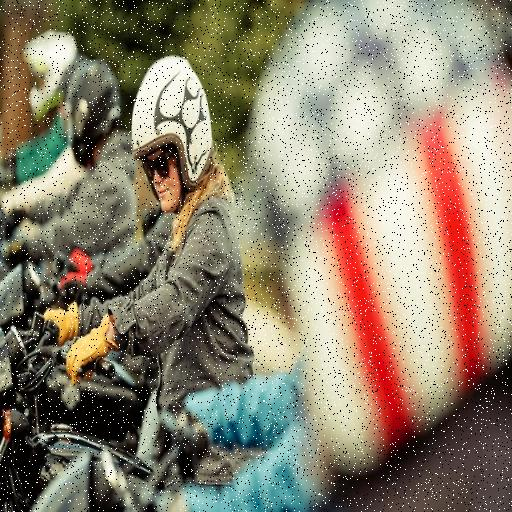Helmet: (251, 18, 512, 476), (126, 62, 219, 216), (20, 32, 86, 126), (66, 62, 124, 167)
Motor: (2, 329, 190, 506), (4, 249, 104, 363)
